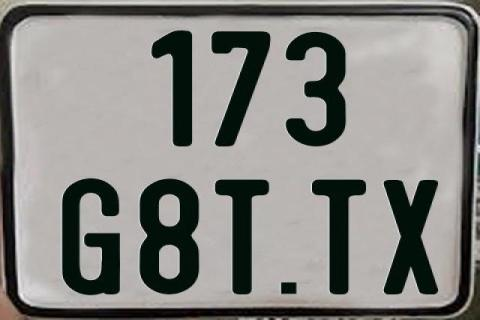0: (286, 29, 350, 145), (138, 177, 202, 293), (208, 32, 268, 152), (148, 30, 195, 148)
G: (59, 177, 118, 295)
T: (212, 179, 270, 297), (309, 178, 367, 294)
X: (382, 179, 439, 296)
